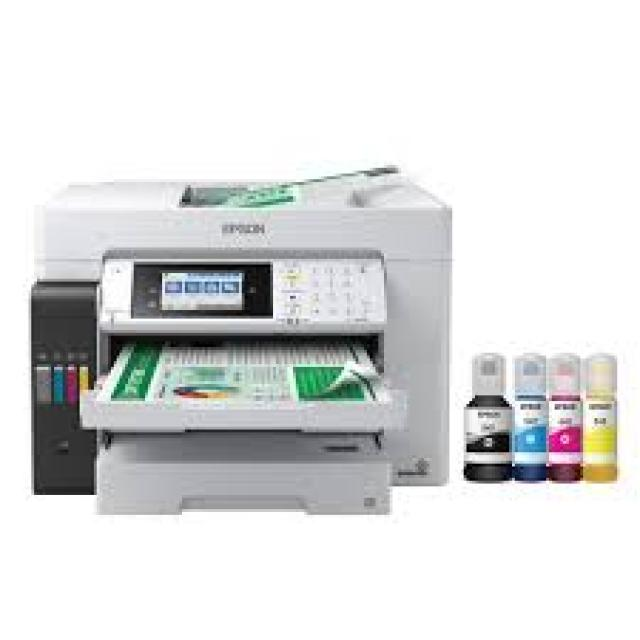printer: (29, 162, 452, 515)
